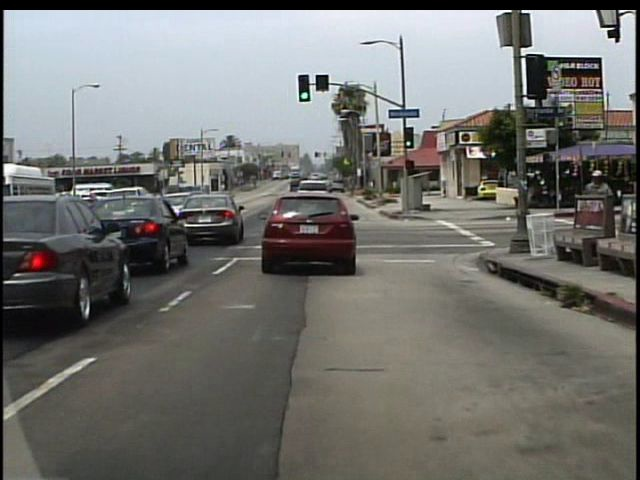person: (579, 166, 614, 256), (495, 174, 506, 207)
